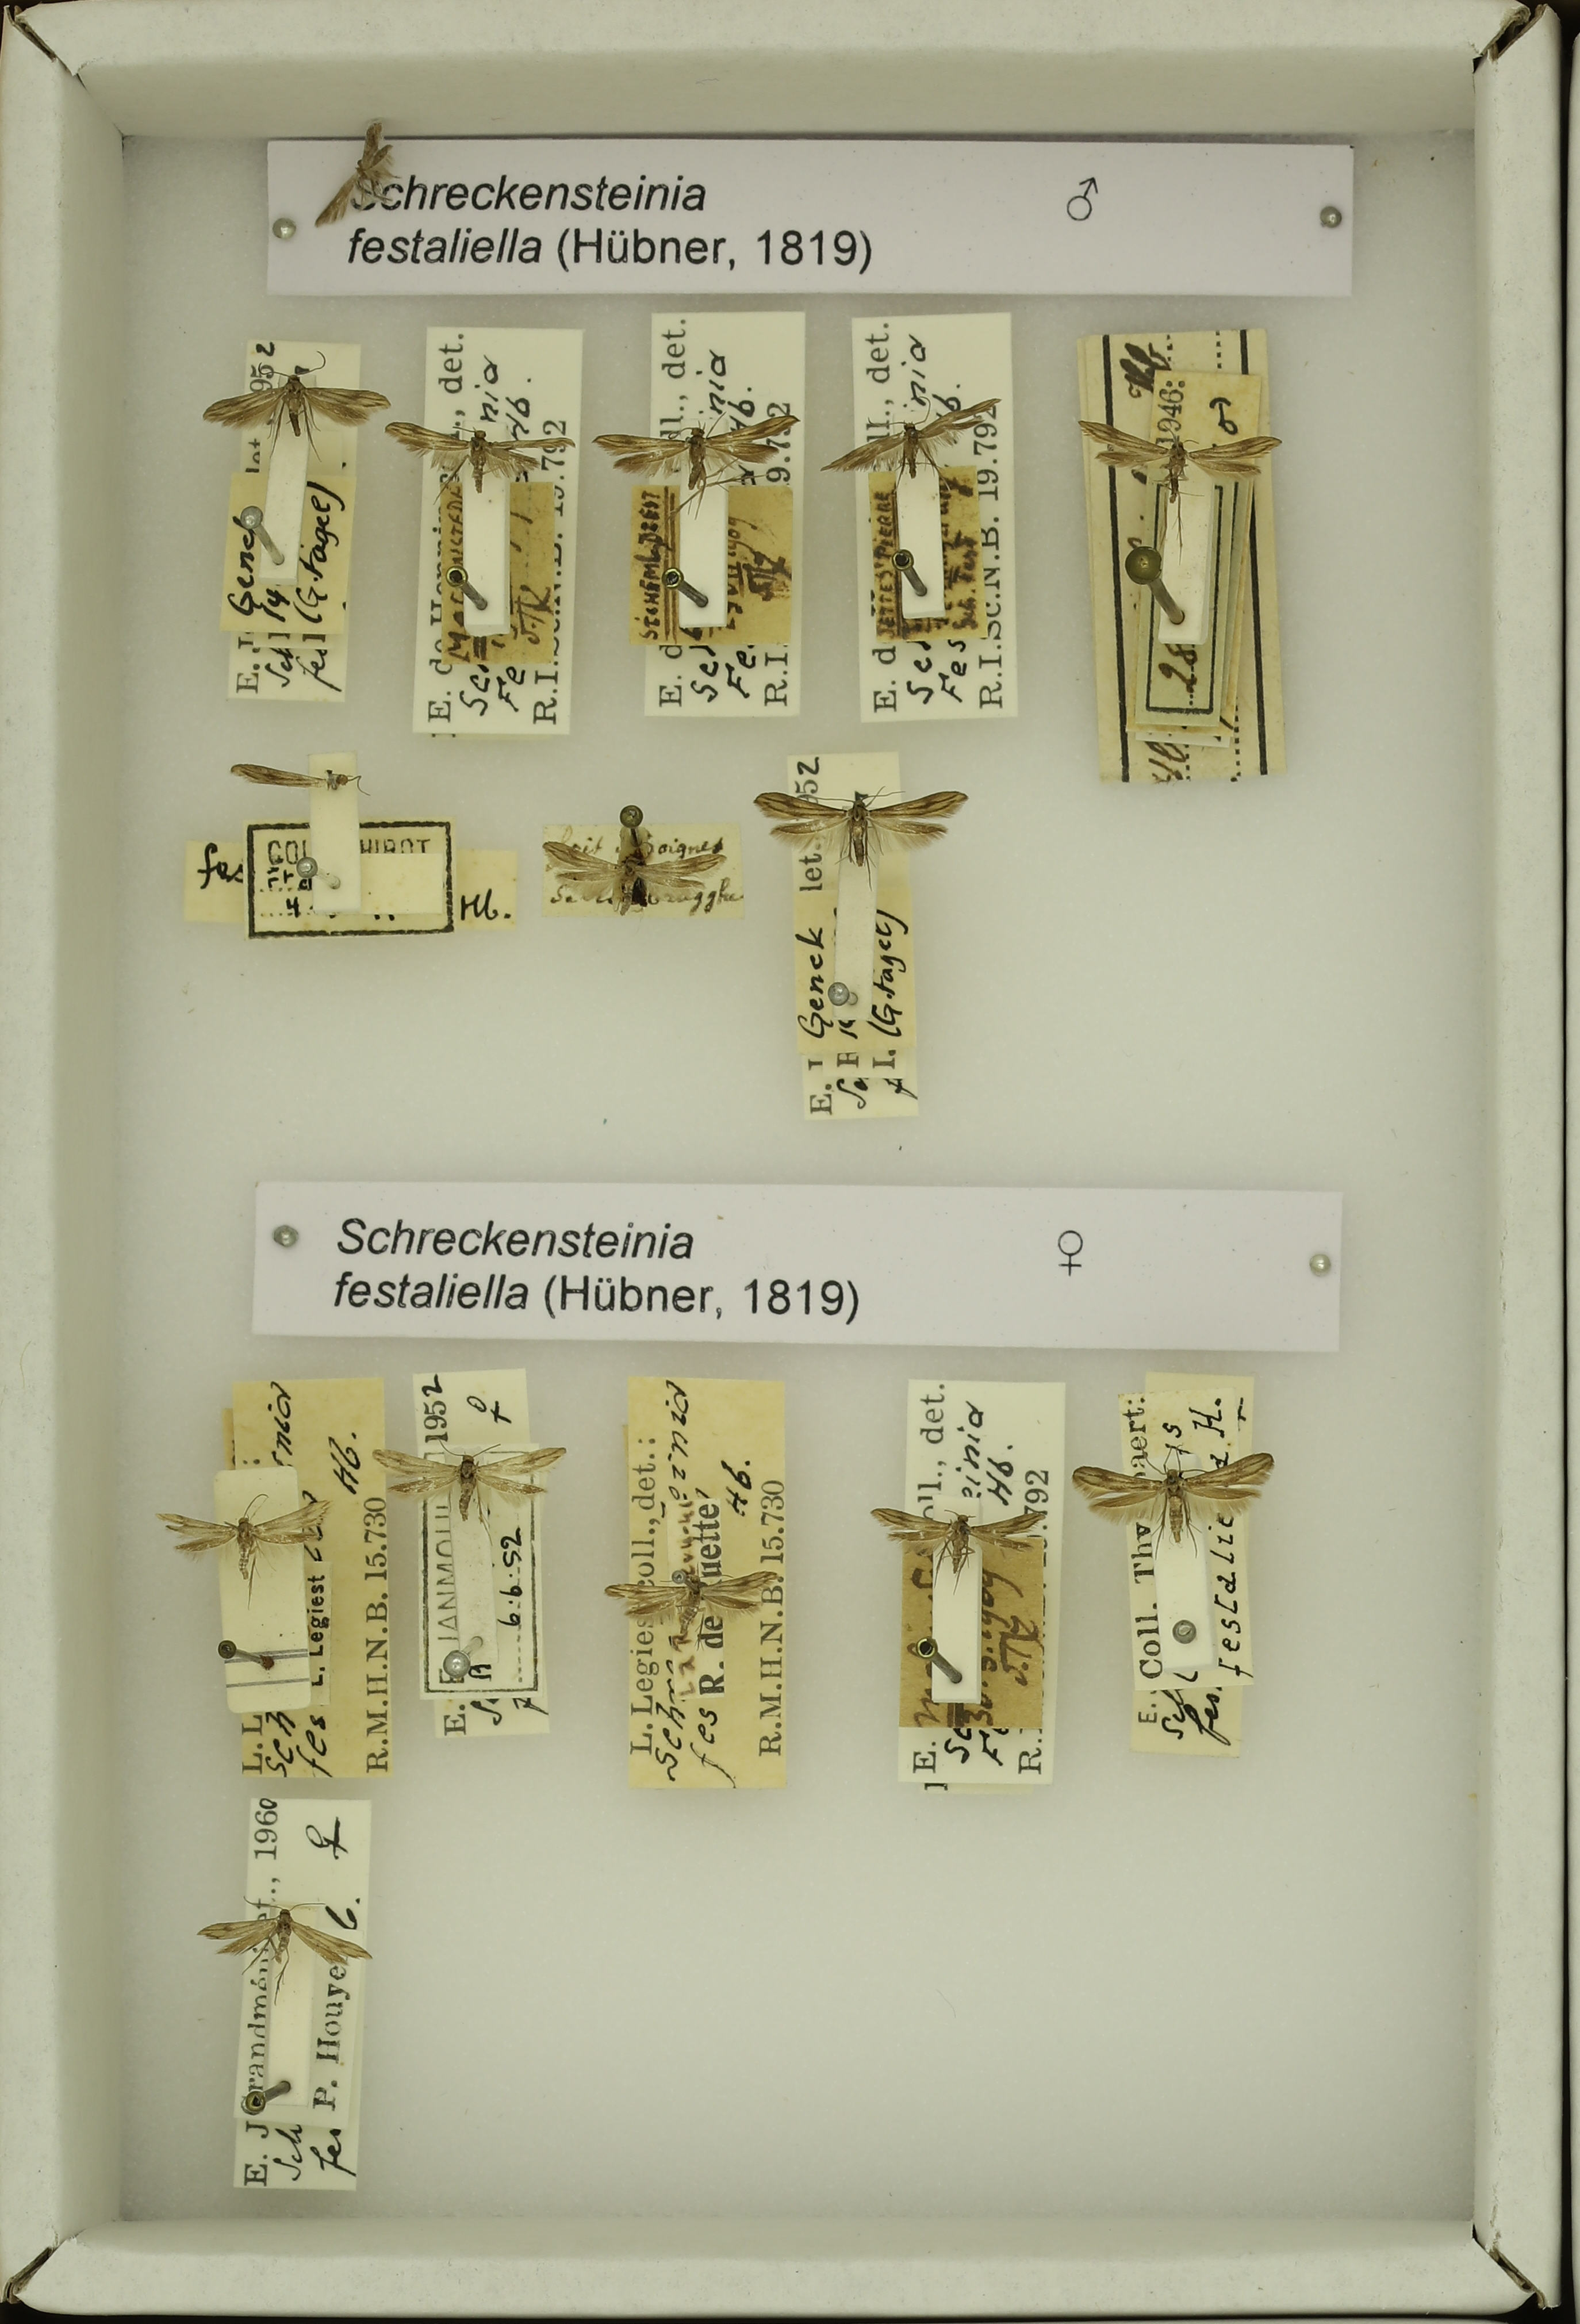insect: (591, 411, 811, 522), (751, 779, 975, 885), (1065, 1442, 1282, 1545), (1070, 397, 1286, 494), (818, 391, 1009, 490), (367, 1435, 575, 1522), (152, 1486, 335, 1580), (548, 823, 725, 920), (384, 414, 582, 499), (601, 1557, 783, 1649), (862, 1492, 1051, 1580), (201, 354, 397, 439), (190, 1896, 370, 1978), (307, 118, 400, 231), (226, 760, 369, 801)
